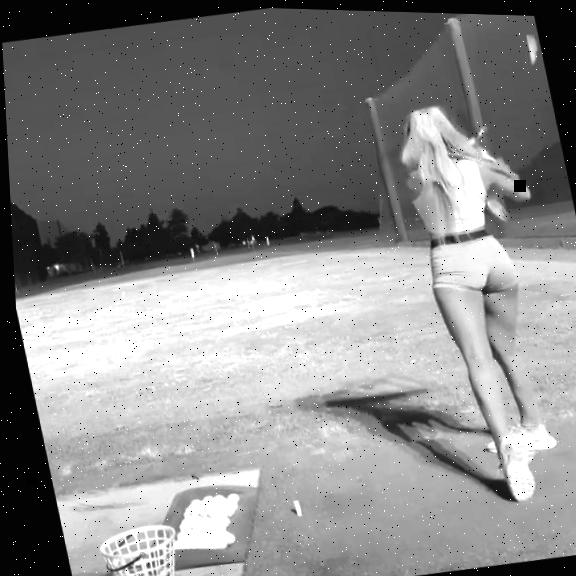ClubHead: (522, 28, 543, 63)
